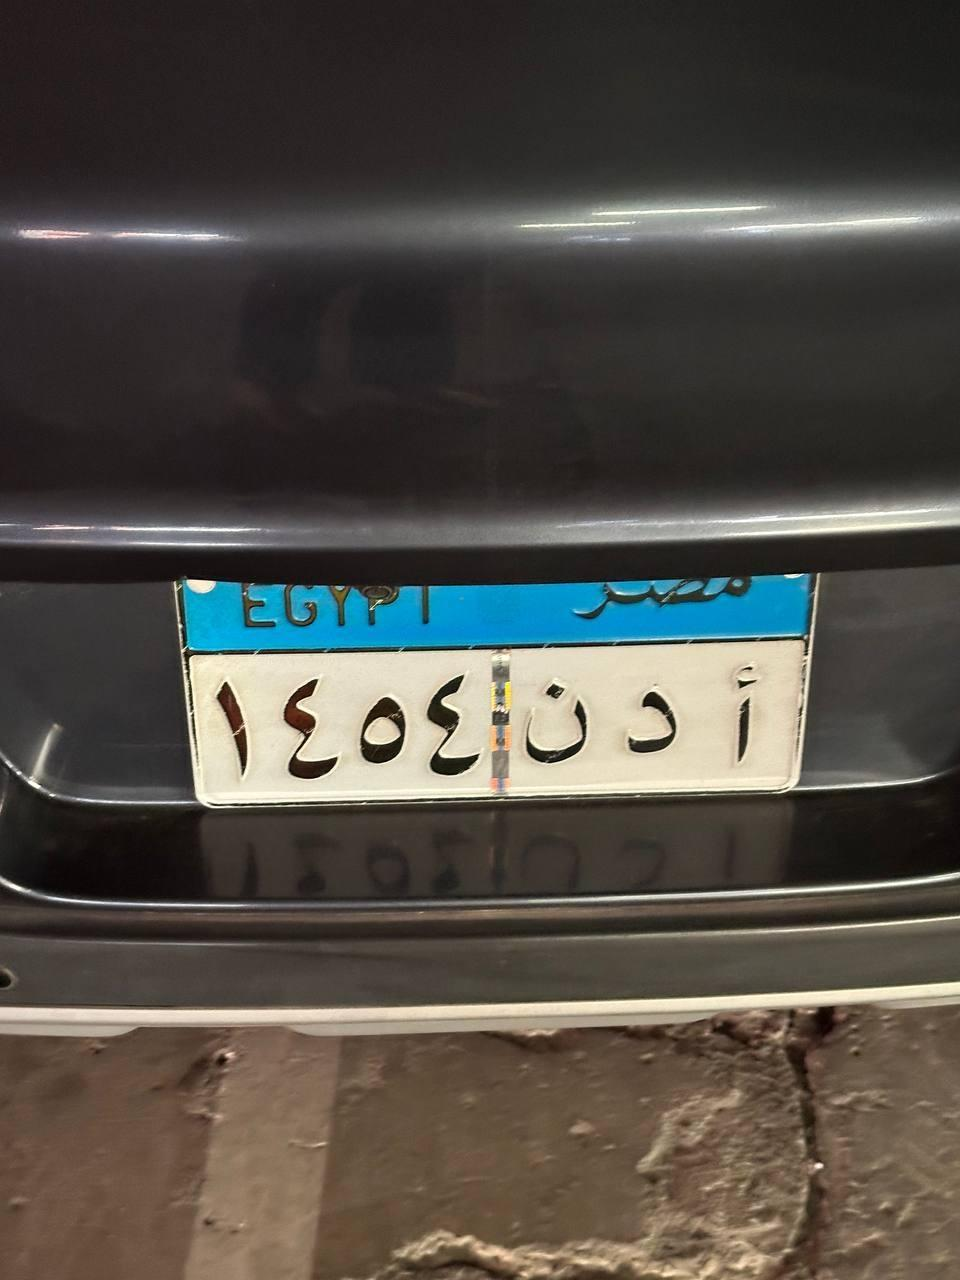1: (198, 670, 253, 804)
4: (275, 653, 354, 798), (416, 676, 492, 792)
5: (343, 688, 411, 756)
License Plate: (176, 556, 815, 804)
Noon: (516, 668, 592, 770)
daal: (613, 661, 681, 762), (716, 661, 772, 772)
